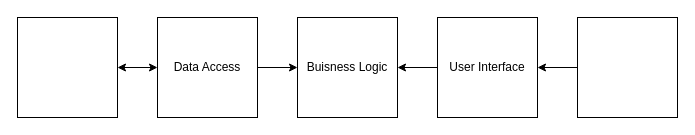
Some shapes in this 695 by 135 pixel diagram are drawn without their labels. The centre of each missing label's shape, as x and y in pixels:
"Data Base" belongs at point (67, 67).
"Web UI" belongs at point (627, 67).
